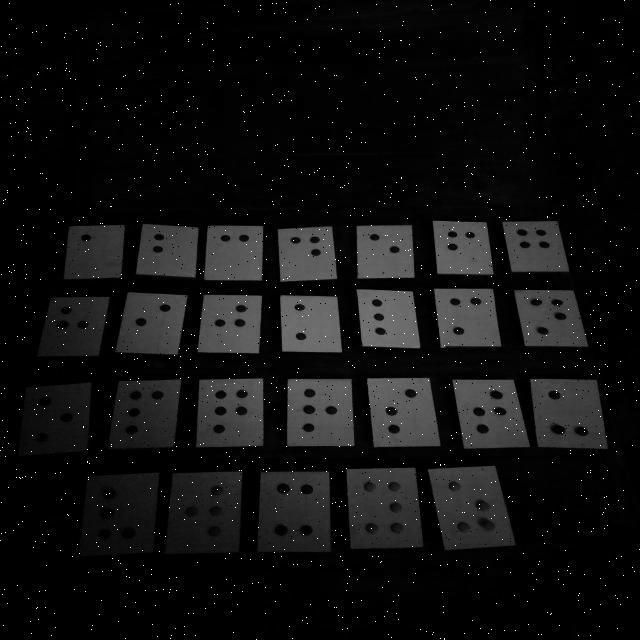A: (66, 226, 123, 278)
B: (137, 224, 199, 277)
C: (208, 226, 262, 278)
D: (282, 228, 330, 279)
E: (358, 224, 413, 278)
F: (436, 222, 490, 274)
G: (503, 221, 569, 272)
H: (48, 298, 98, 352)
I: (118, 292, 187, 354)
J: (205, 296, 257, 348)
K: (282, 295, 343, 352)
L: (361, 290, 414, 344)
M: (437, 290, 503, 346)
N: (521, 294, 577, 344)
O: (19, 383, 88, 455)
P: (109, 380, 180, 447)
Q: (202, 384, 260, 444)
R: (290, 383, 352, 443)
S: (373, 382, 431, 443)
T: (464, 383, 516, 442)
U: (539, 384, 600, 442)
V: (90, 484, 150, 546)
W: (169, 473, 240, 554)
X: (260, 472, 331, 552)
Y: (348, 469, 423, 548)
Z: (428, 466, 518, 553)
